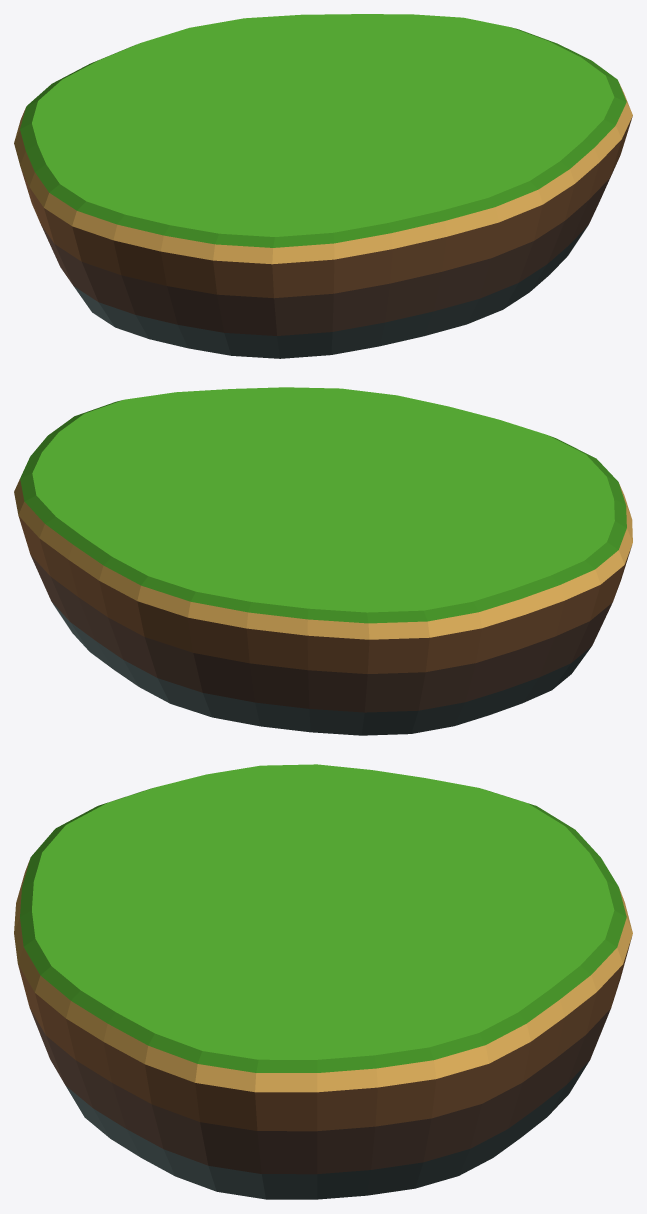
File: stage_select_gate_island.obj
3 renders of one model, top to bottom at view 1: azimuth 30°, elevation 25°; view 2: azimuth 150°, elevation 25°; view 3: azimuth 270°, elevation 25°, orthographic. The views are drawn at different scales.
Visible parts, largest first — view 1: stage_select_gate_island; view 2: stage_select_gate_island; view 3: stage_select_gate_island.
Part boxes in pixels (x1=…): stage_select_gate_island: x1=14, y1=14, x2=632, y2=358; stage_select_gate_island: x1=14, y1=387, x2=632, y2=735; stage_select_gate_island: x1=14, y1=764, x2=632, y2=1199.
Bounding box in the file's own units: 30.6 × 7.2 × 25.5.
